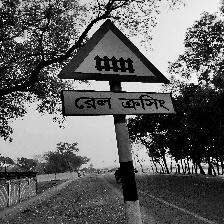Rail-crossing: (57, 19, 176, 118)
